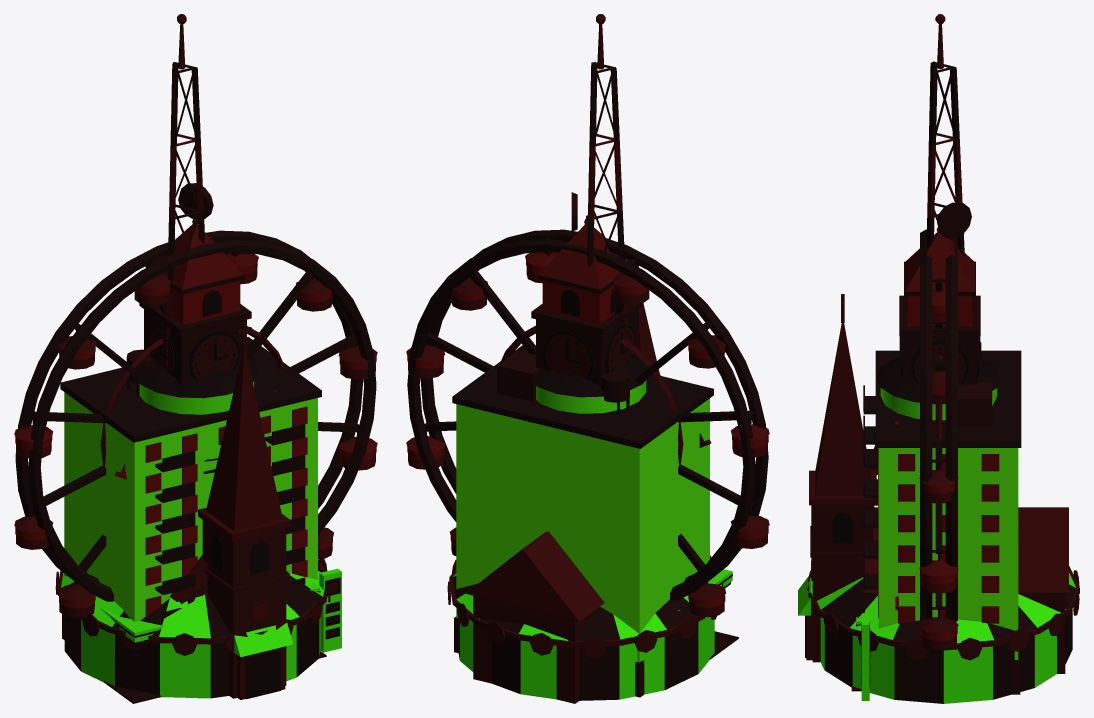
3 renders of one model, left to right at view 1: azimuth 30°, elevation 25°; view 2: azimuth 150°, elevation 25°; view 3: azimuth 270°, elevation 25°, orthographic.
Parts seen in each view (by area): view 1: apartment_block, ferris_wheel, circus_tent, church, clock_tower, radio_mast, water_tower, petrol_station; view 2: apartment_block, ferris_wheel, circus_tent, church, clock_tower, radio_mast, water_tower, petrol_station; view 3: apartment_block, circus_tent, church, ferris_wheel, clock_tower, radio_mast, water_tower, petrol_station.
Boxes of the visible parts, left/top/right/bottom form: apartment_block: left=60, top=337, right=321, bottom=639; ferris_wheel: left=14, top=230, right=377, bottom=617; circus_tent: left=55, top=557, right=330, bottom=699; church: left=169, top=322, right=290, bottom=698; clock_tower: left=139, top=215, right=251, bottom=386; radio_mast: left=166, top=14, right=213, bottom=372; water_tower: left=136, top=358, right=258, bottom=473; petrol_station: left=99, top=568, right=341, bottom=703; apartment_block: left=452, top=345, right=713, bottom=697; ferris_wheel: left=406, top=229, right=769, bottom=617; circus_tent: left=447, top=555, right=723, bottom=700; church: left=465, top=265, right=659, bottom=703; clock_tower: left=531, top=215, right=643, bottom=386; radio_mast: left=571, top=14, right=629, bottom=363; water_tower: left=533, top=358, right=648, bottom=413; petrol_station: left=678, top=569, right=738, bottom=659; apartment_block: left=863, top=342, right=1021, bottom=694; circus_tent: left=798, top=566, right=1079, bottom=703; church: left=809, top=294, right=1068, bottom=673; ferris_wheel: left=919, top=229, right=958, bottom=650; clock_tower: left=899, top=227, right=980, bottom=386; radio_mast: left=926, top=14, right=971, bottom=256; water_tower: left=872, top=357, right=1001, bottom=448; petrol_station: left=851, top=616, right=871, bottom=700.
Size of what is drawn, in the model's own units: 35.11 by 59.55 by 24.2.
